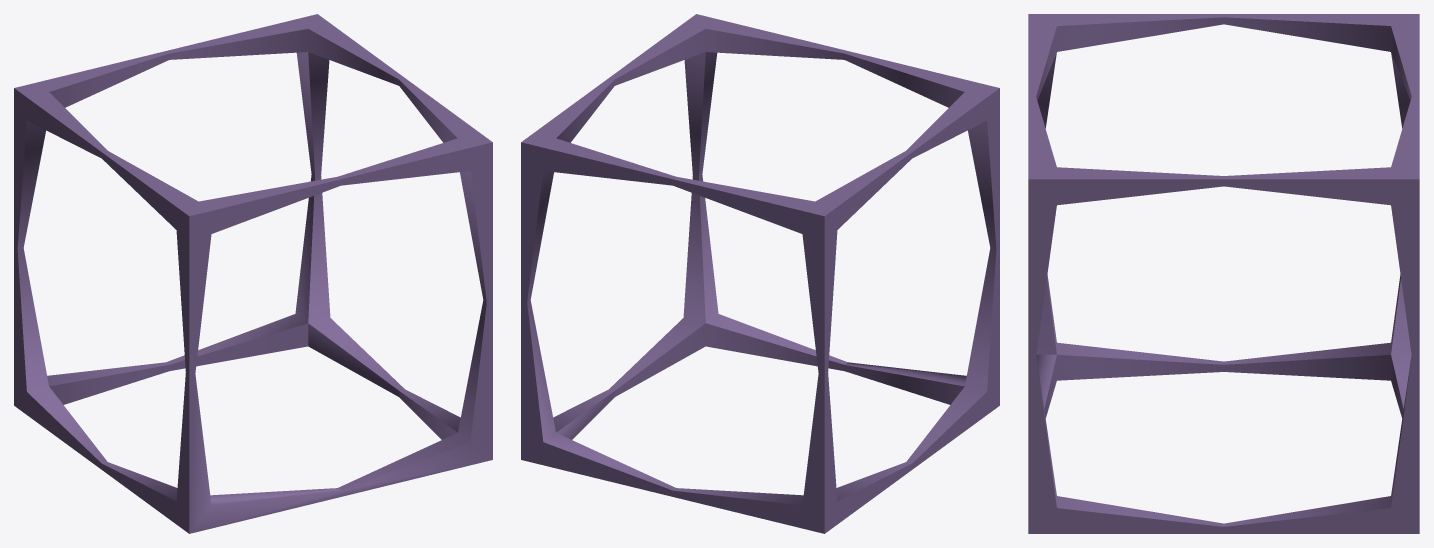
The model's file is ExitBlock.FBX.
The picture shows the model from 3 angles, left to right: view 1: azimuth 30°, elevation 25°; view 2: azimuth 150°, elevation 25°; view 3: azimuth 270°, elevation 25°; orthographic projection. The views are drawn at different scales.
Visible parts, largest first — view 1: ExitBlock; view 2: ExitBlock; view 3: ExitBlock.
Boxes of the visible parts, <box> form: ExitBlock: <box>14,14,492,533</box>; ExitBlock: <box>521,14,999,533</box>; ExitBlock: <box>1028,14,1419,533</box>.
Bounding box in the file's own units: 100 × 100 × 100.
